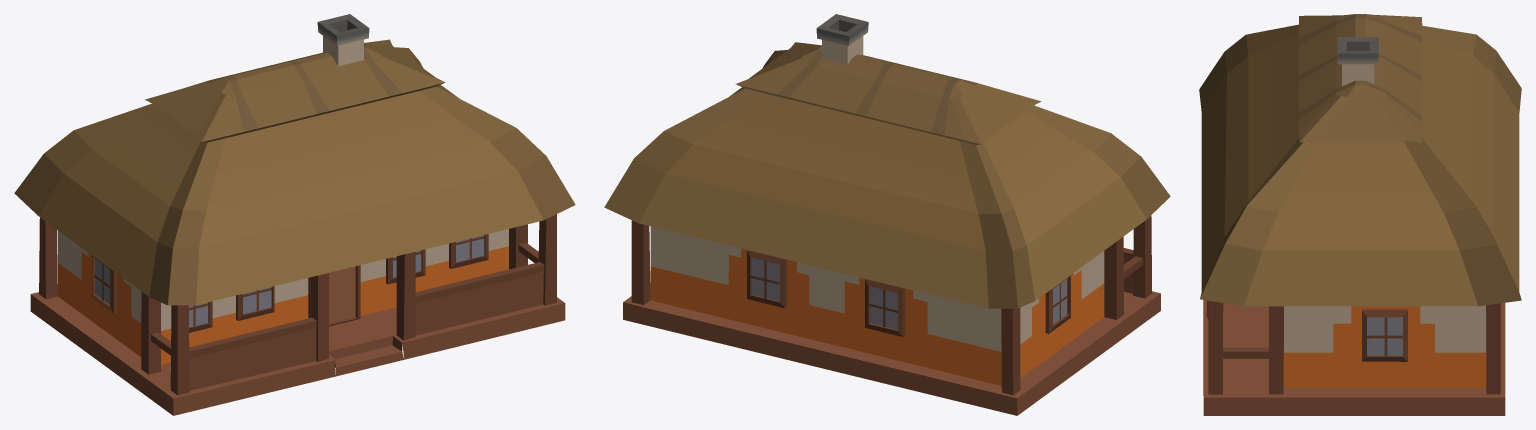
Rendered from big_house.fbx.
3 views of the same model, side by side, from view 1: azimuth 30°, elevation 25°; view 2: azimuth 150°, elevation 25°; view 3: azimuth 270°, elevation 25° (orthographic). The views are drawn at different scales.
Parts seen in each view (by area): view 1: big_house; view 2: big_house; view 3: big_house.
Boxes of the visible parts, box(x1,y1,x2,y2) form: big_house: box(14, 14, 575, 415); big_house: box(604, 14, 1170, 415); big_house: box(1199, 14, 1521, 415).
Size of the model in its own units: 497 by 321 by 319.
